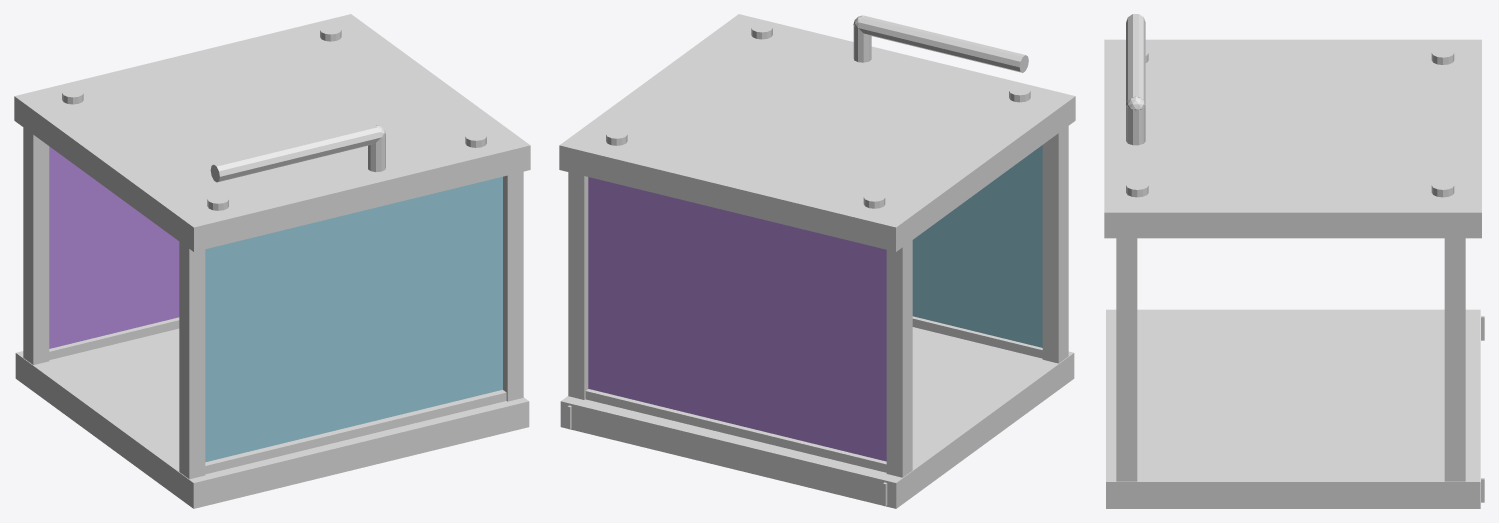
The model's file is L71_13_VacuumLoadLockChamber_Fitted.fbx.
3 renders of one model, left to right at view 1: azimuth 30°, elevation 25°; view 2: azimuth 150°, elevation 25°; view 3: azimuth 270°, elevation 25°, orthographic. The views are drawn at different scales.
Parts seen in each view (by area): view 1: L71_VacuumLoadLockChamber_Static__tint42657F, L71_VacuumLoadLockChamber_Static__glass, L71_VacuumLoadLockChamber_Static__tintB5C8D0, L71_VacuumLoadLockChamber_Static__tint1B3245; view 2: L71_VacuumLoadLockChamber_Static__tint42657F, L71_VacuumLoadLockChamber_Static__glass, L71_VacuumLoadLockChamber_Static__tintB5C8D0, L71_VacuumLoadLockChamber_Static__tint1B3245; view 3: L71_VacuumLoadLockChamber_Static__tint42657F, L71_VacuumLoadLockChamber_Static__tintB5C8D0, L71_VacuumLoadLockChamber_Static__tint1B3245.
Part boxes in pixels (<box>): L71_VacuumLoadLockChamber_Static__tint42657F: <box>14,14,530,508</box>; L71_VacuumLoadLockChamber_Static__glass: <box>49,146,502,462</box>; L71_VacuumLoadLockChamber_Static__tintB5C8D0: <box>23,127,523,479</box>; L71_VacuumLoadLockChamber_Static__tint1B3245: <box>62,25,486,210</box>; L71_VacuumLoadLockChamber_Static__tint42657F: <box>559,14,1075,508</box>; L71_VacuumLoadLockChamber_Static__glass: <box>588,145,1042,461</box>; L71_VacuumLoadLockChamber_Static__tintB5C8D0: <box>567,126,1068,506</box>; L71_VacuumLoadLockChamber_Static__tint1B3245: <box>606,23,1030,208</box>; L71_VacuumLoadLockChamber_Static__tint42657F: <box>1104,14,1481,508</box>; L71_VacuumLoadLockChamber_Static__tintB5C8D0: <box>1116,238,1484,502</box>; L71_VacuumLoadLockChamber_Static__tint1B3245: <box>1126,48,1454,197</box>.
Size of the model in its own units: 26.21 by 24.14 by 24.36.
